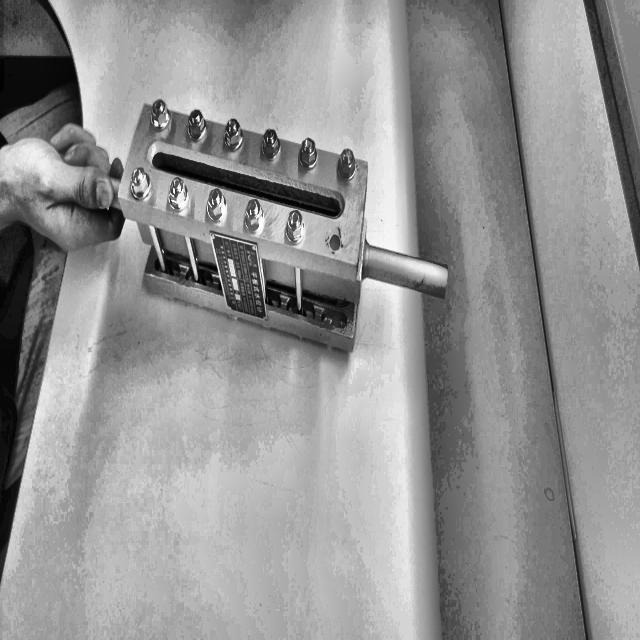ShuiWeiQi_11: (117, 58, 443, 356)
